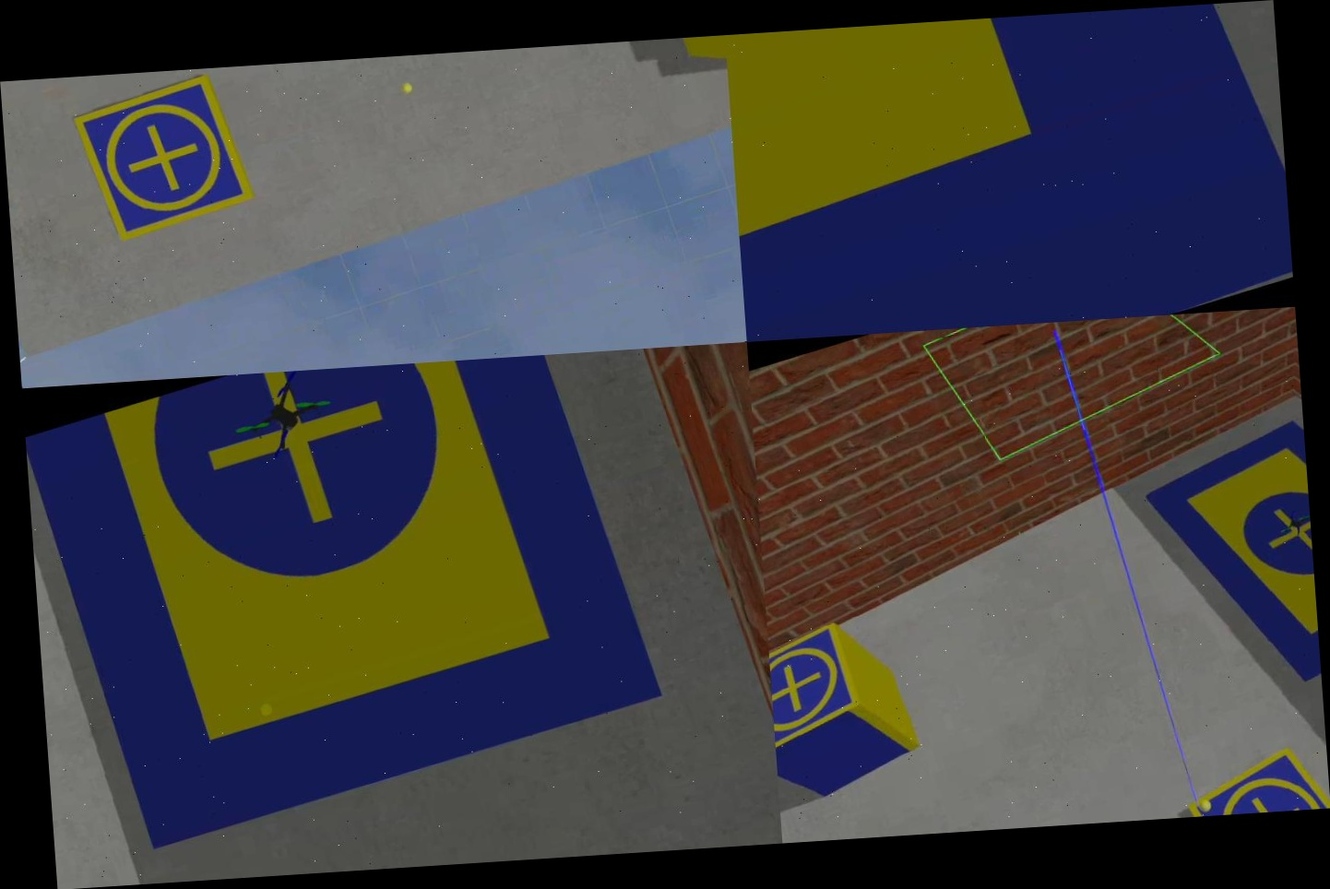large_base: (22, 349, 673, 860), (725, 0, 1294, 342), (1129, 387, 1323, 716)
small_base: (66, 68, 261, 248), (767, 619, 874, 766), (1173, 733, 1330, 817)
